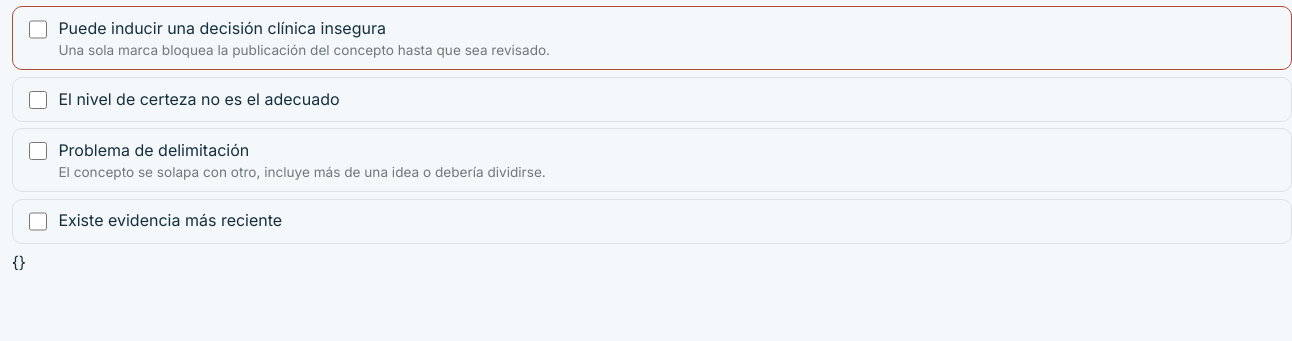
Test case: banderas › marcar una con detalle abre su campo de texto
Expected: the field labelled "Indica cuál consideras correcto" is not shown
Click the checkbox labelled "El nivel de certeza no es el adecuado" at coordinates (38, 100), box [29,91,47,109]
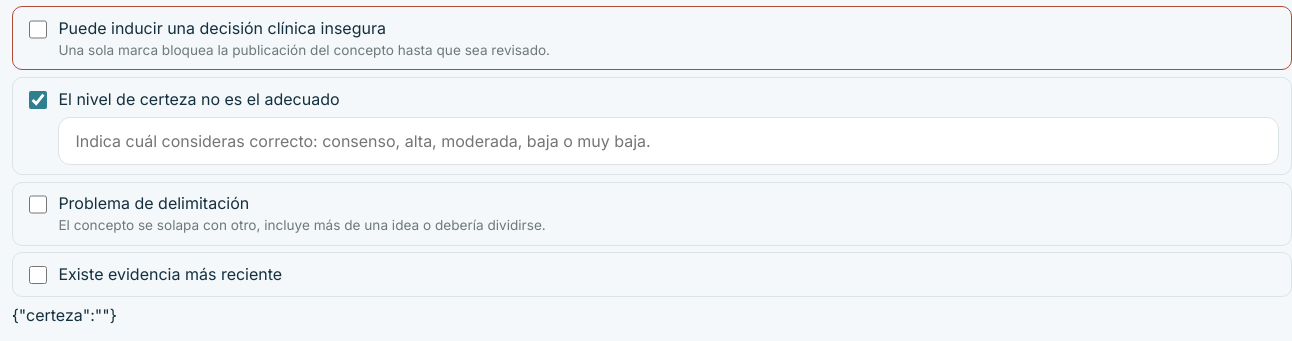
Expected: the field labelled "Indica cuál consideras correcto" is shown, [58,117,1279,165]
